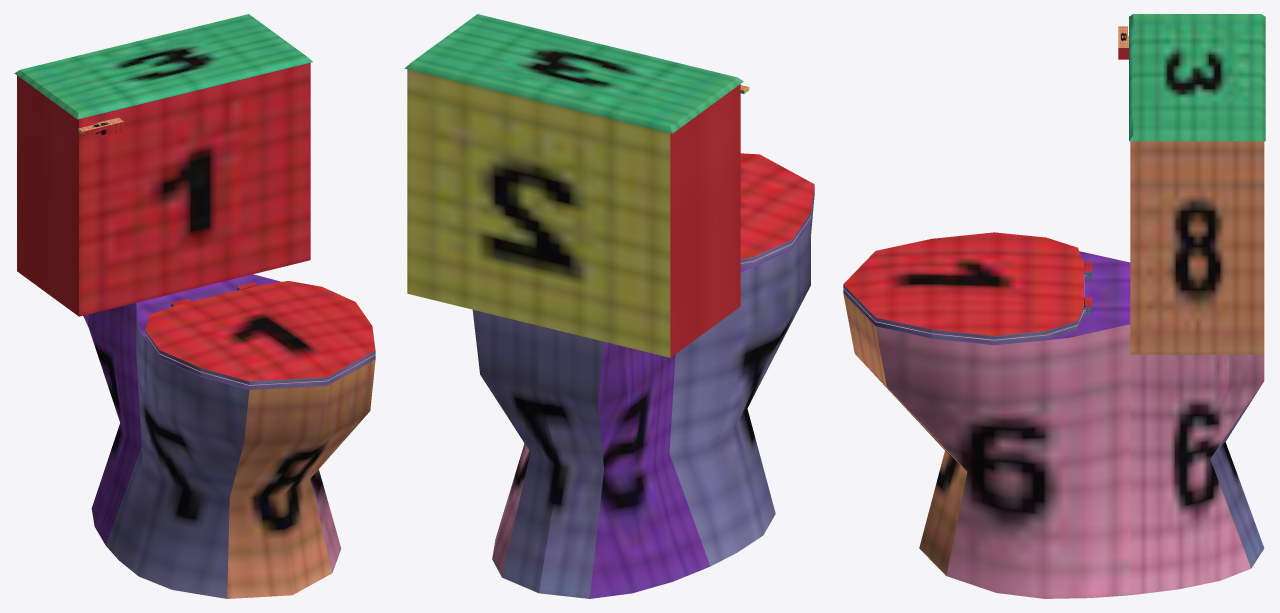
File: Toilet.fbx
3 renders of one model, left to right at view 1: azimuth 30°, elevation 25°; view 2: azimuth 150°, elevation 25°; view 3: azimuth 270°, elevation 25°, orthographic. The views are drawn at different scales.
Visible parts, largest first — view 1: Toilet_mesh; view 2: Toilet_mesh; view 3: Toilet_mesh.
Boxes of the visible parts, x1,y1,x2,y2 form: Toilet_mesh: [14, 14, 375, 598]; Toilet_mesh: [404, 14, 814, 598]; Toilet_mesh: [843, 14, 1265, 598].
Bounding box in the file's own units: 0.4399 × 0.7816 × 0.6302.
1 material, 1 textured.
